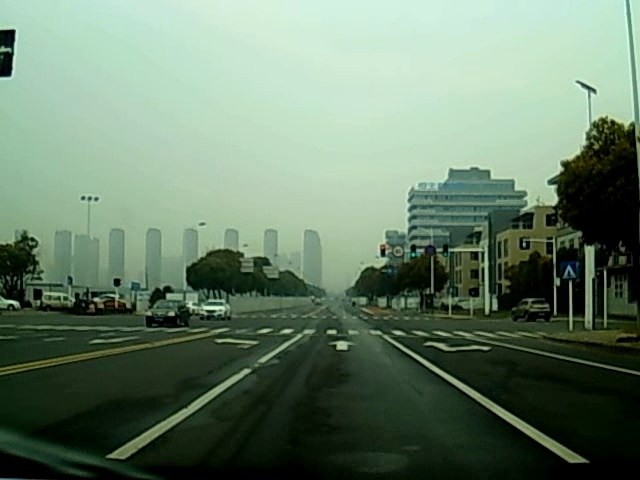Traffic_Light_go: (410, 244, 417, 261), (443, 245, 448, 259)
Traffic_Light_stop: (379, 245, 385, 260)
